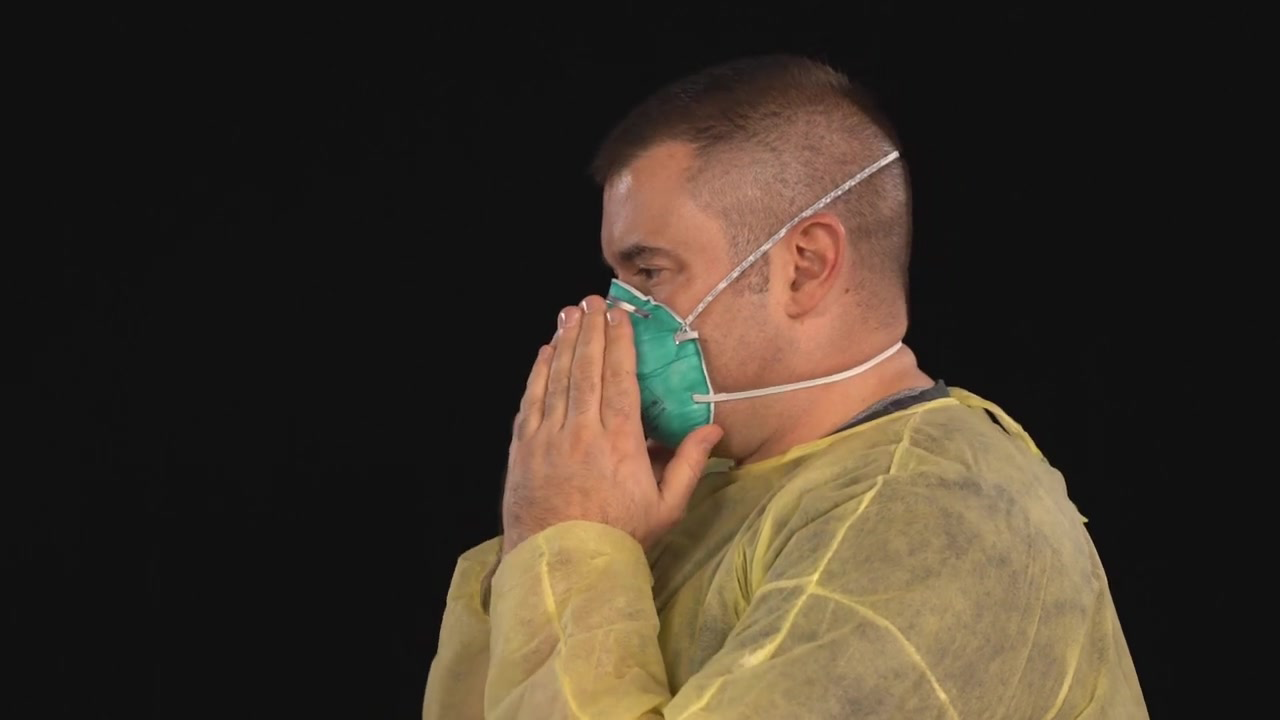Coverall: (452, 392, 1160, 720)
with_mask: (585, 243, 730, 446)
